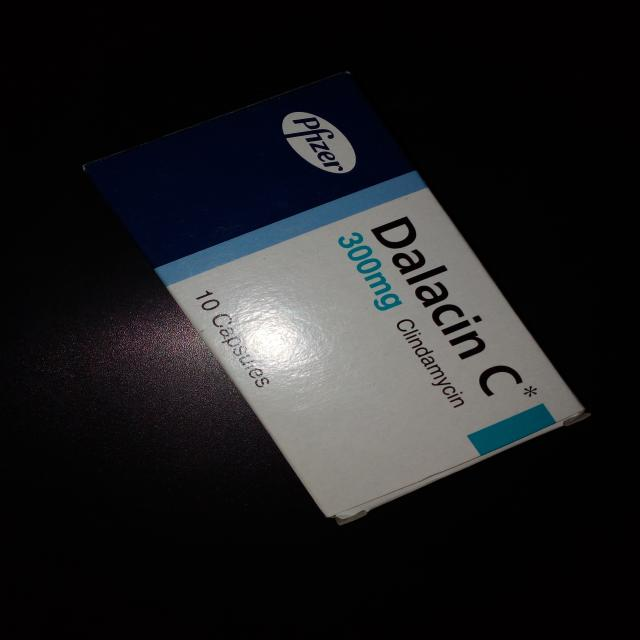Medicine: (72, 65, 601, 530)
